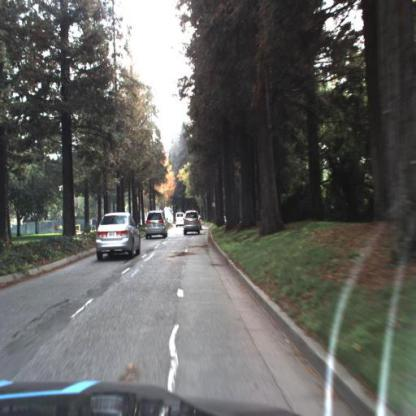car: (93, 209, 141, 257), (144, 209, 170, 241), (180, 206, 202, 234), (174, 210, 186, 231), (173, 206, 184, 227)
